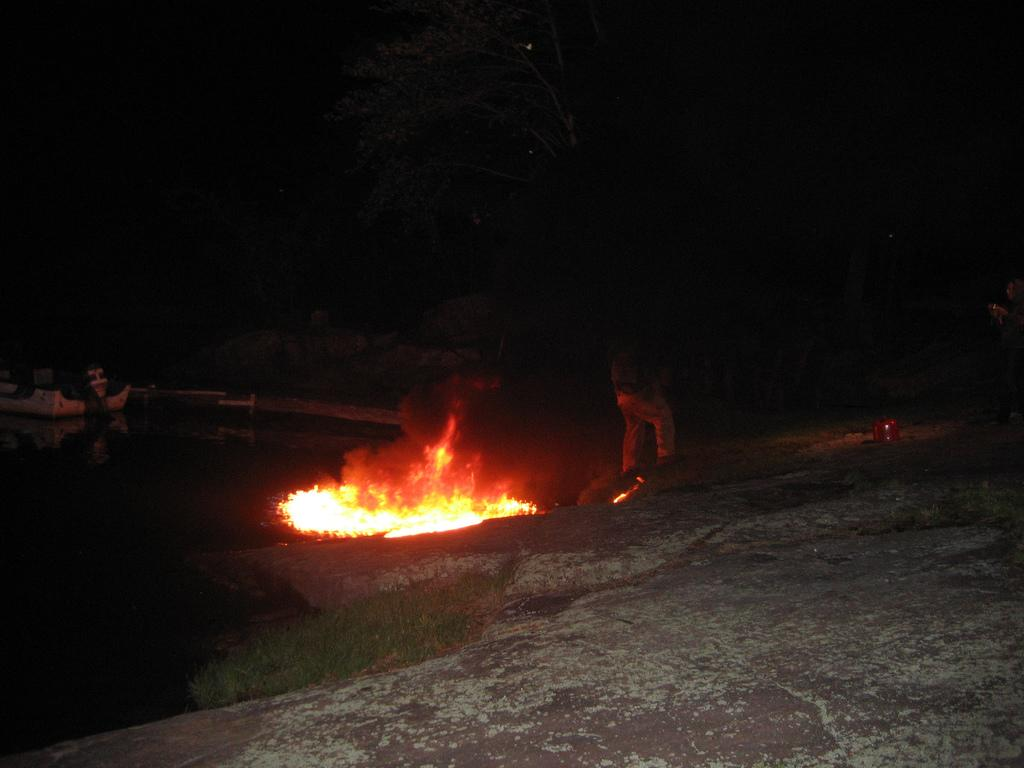fire: (368, 506, 460, 530), (290, 496, 352, 530)
